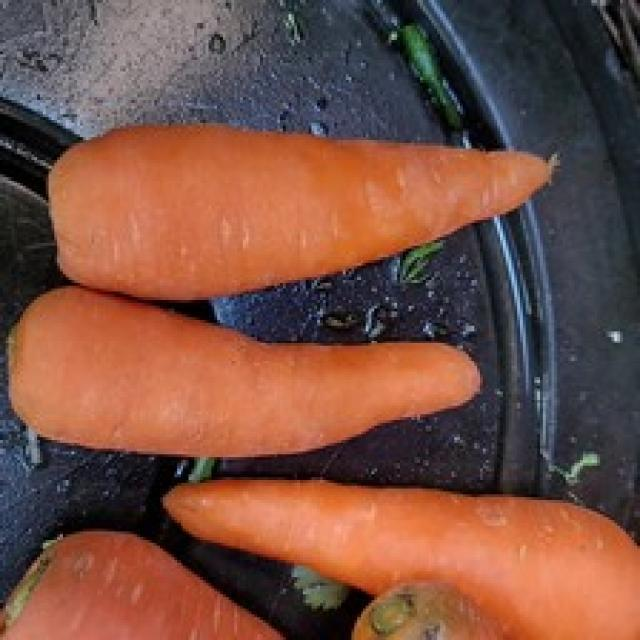carrot: (46, 122, 556, 292), (9, 289, 482, 456), (166, 480, 639, 640)
